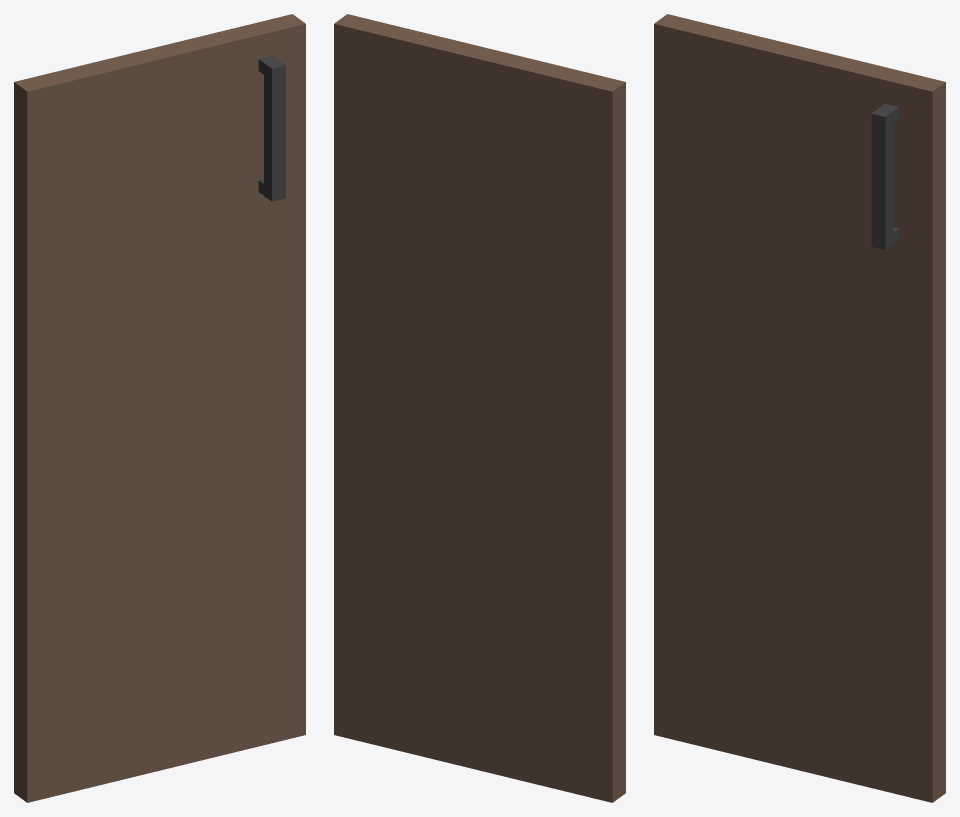
File: BathroomDoor_C2_02.fbx
The picture shows the model from 3 angles, left to right: view 1: azimuth 30°, elevation 25°; view 2: azimuth 150°, elevation 25°; view 3: azimuth 330°, elevation 25°; orthographic projection.
Parts seen in each view (by area): view 1: BathroomDoor_C2_02; view 2: BathroomDoor_C2_02; view 3: BathroomDoor_C2_02.
Part boxes in pixels (x1=…): BathroomDoor_C2_02: x1=14, y1=14, x2=305, y2=802; BathroomDoor_C2_02: x1=334, y1=14, x2=625, y2=802; BathroomDoor_C2_02: x1=654, y1=14, x2=945, y2=802.
Bounding box in the file's own units: 30 × 73.19 × 5.03.
